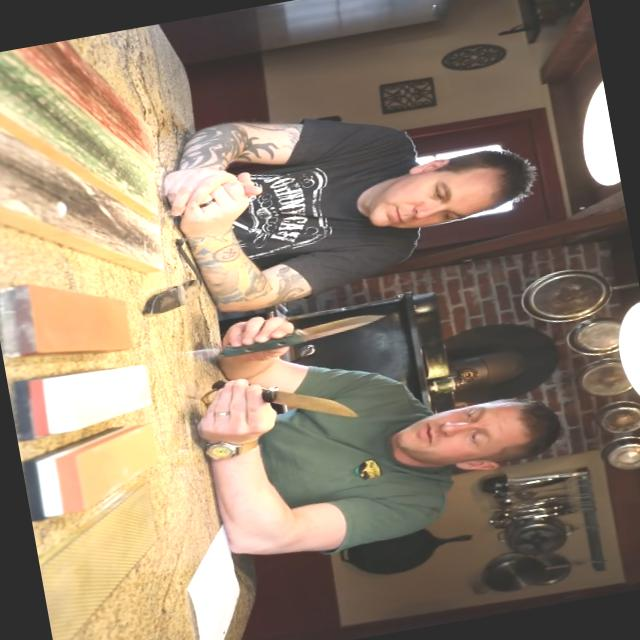knife: (219, 354, 367, 448), (238, 291, 402, 364)
